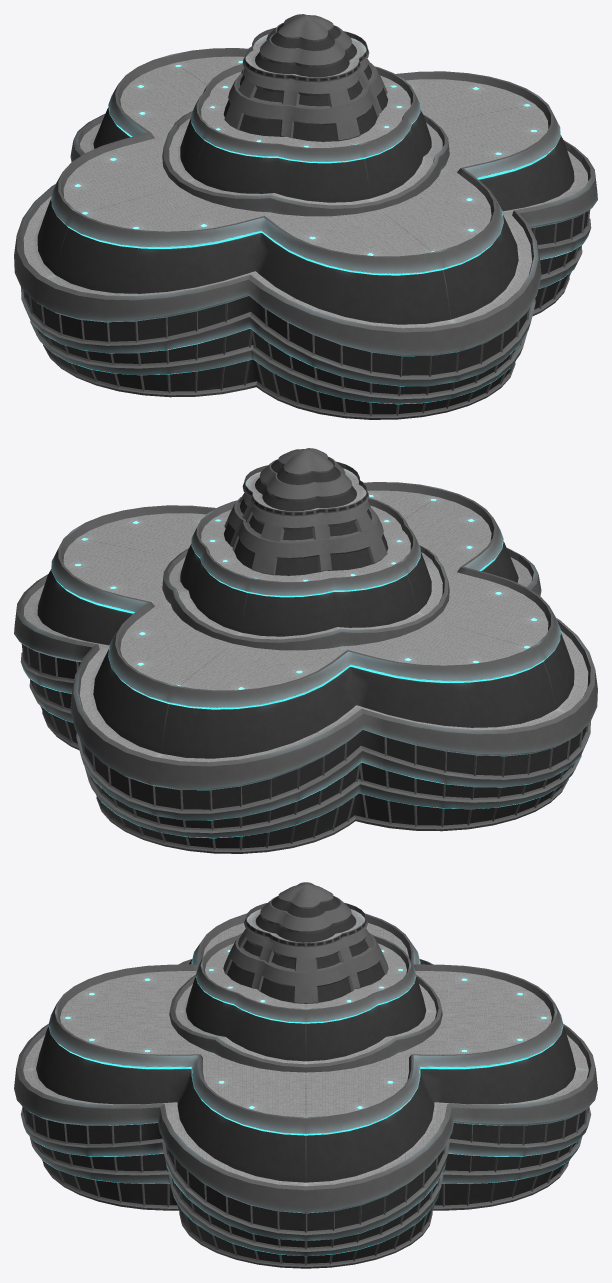
The model's file is bldg_sQt_RS2_000.FBX.
3 views of the same model, one above another, from view 1: azimuth 30°, elevation 25°; view 2: azimuth 150°, elevation 25°; view 3: azimuth 270°, elevation 25° (orthographic). The views are drawn at different scales.
Visible parts, largest first — view 1: bldg_sqt_RS2_00; view 2: bldg_sqt_RS2_00; view 3: bldg_sqt_RS2_00.
Part boxes in pixels (x1,y1,x2,y2): bldg_sqt_RS2_00: (14,14,597,419); bldg_sqt_RS2_00: (14,448,597,853); bldg_sqt_RS2_00: (14,882,597,1268).
Size of the model in its own units: 105 by 54.24 by 105.
Materials: 1 (1 with a texture image).
